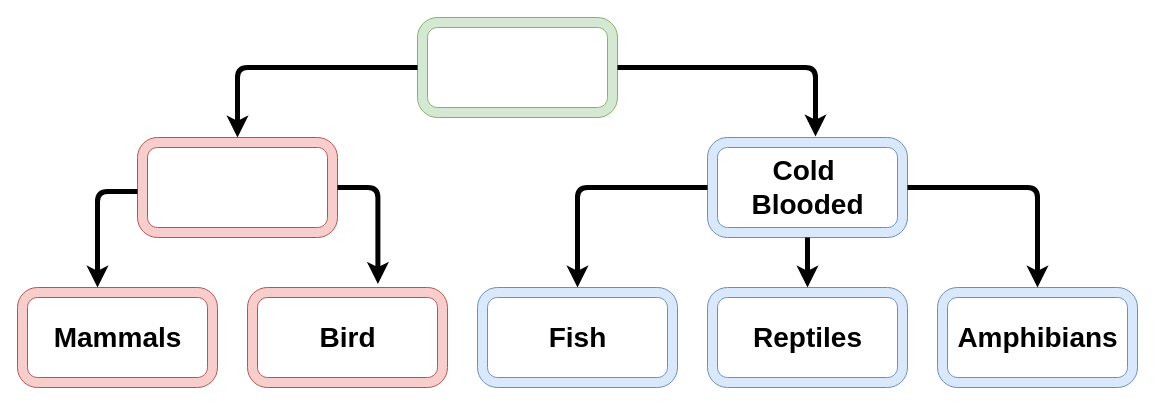
Some shapes in this 1155 by 405 pixel diagram are drawn without their labels. The box of each missing label's shape, as (x1, y1, x2, y2) in pixels:
Animals: (416, 16, 618, 118)
Warm Blooded: (136, 136, 338, 238)
